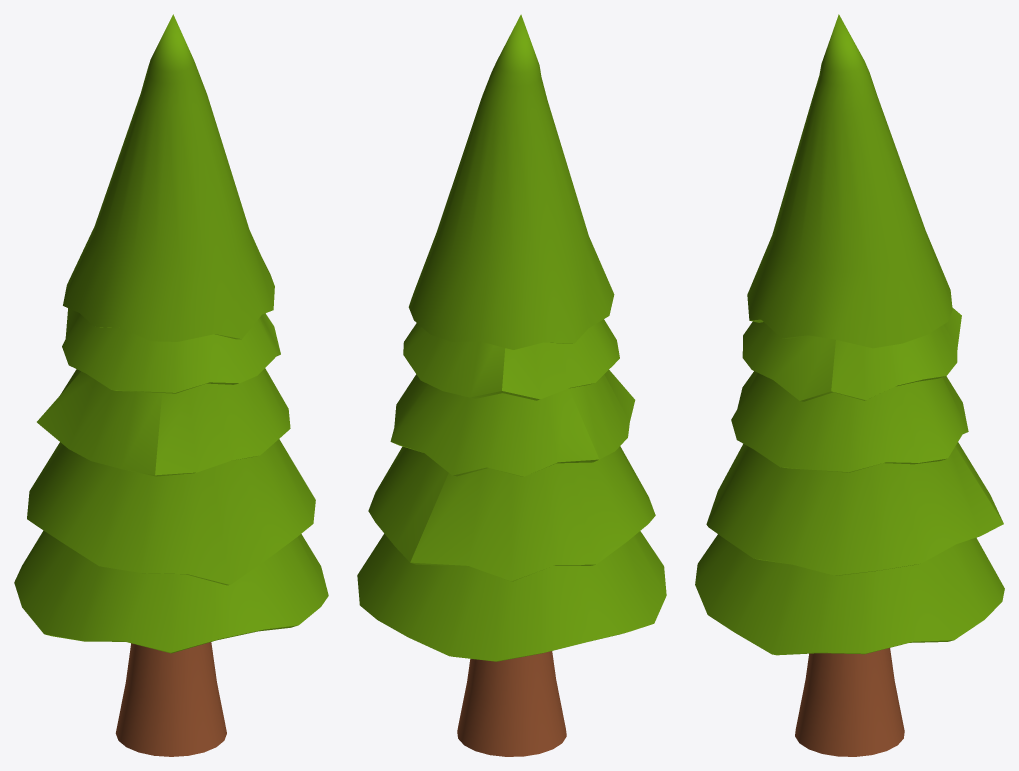
The model's file is tree_pine_small.fbx.
3 renders of one model, left to right at view 1: azimuth 30°, elevation 25°; view 2: azimuth 150°, elevation 25°; view 3: azimuth 270°, elevation 25°, orthographic.
Visible parts, largest first — view 1: tree_pine_small; view 2: tree_pine_small; view 3: tree_pine_small.
Part boxes in pixels (box(x1,y1,x2,y2)): tree_pine_small: box(14, 14, 328, 756); tree_pine_small: box(357, 14, 666, 756); tree_pine_small: box(695, 14, 1004, 756).
Size of the model in its own units: 2.91 by 7.43 by 2.91.
